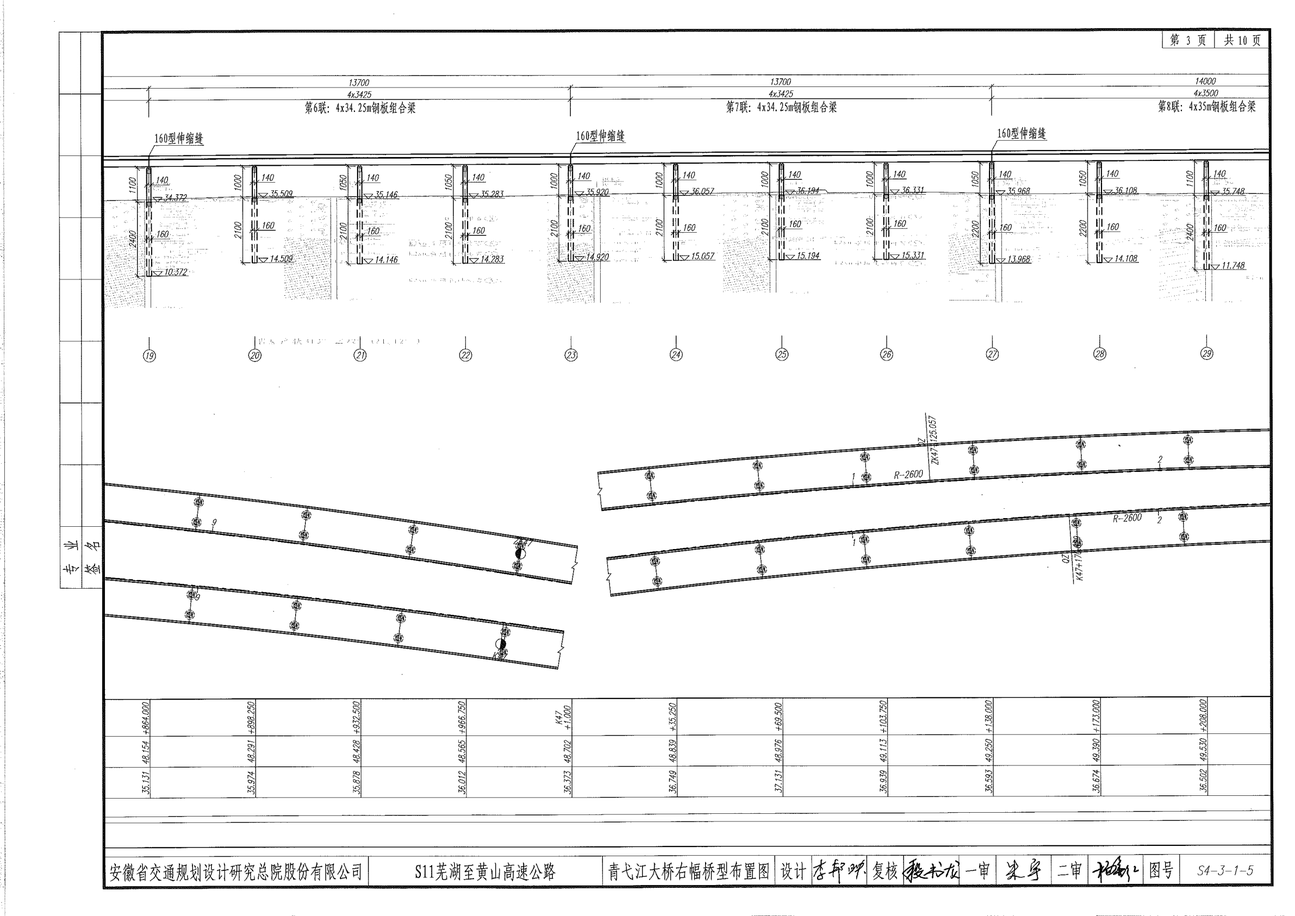A: (85, 50, 1275, 379)
